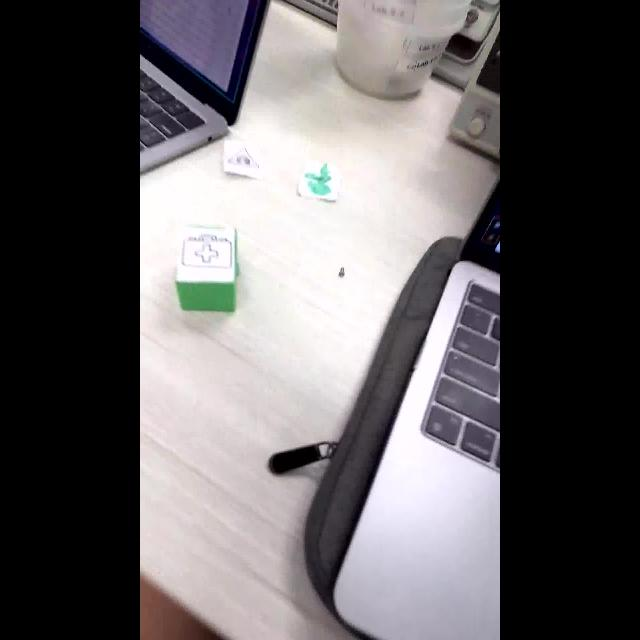Medkit: (182, 230, 232, 269)
